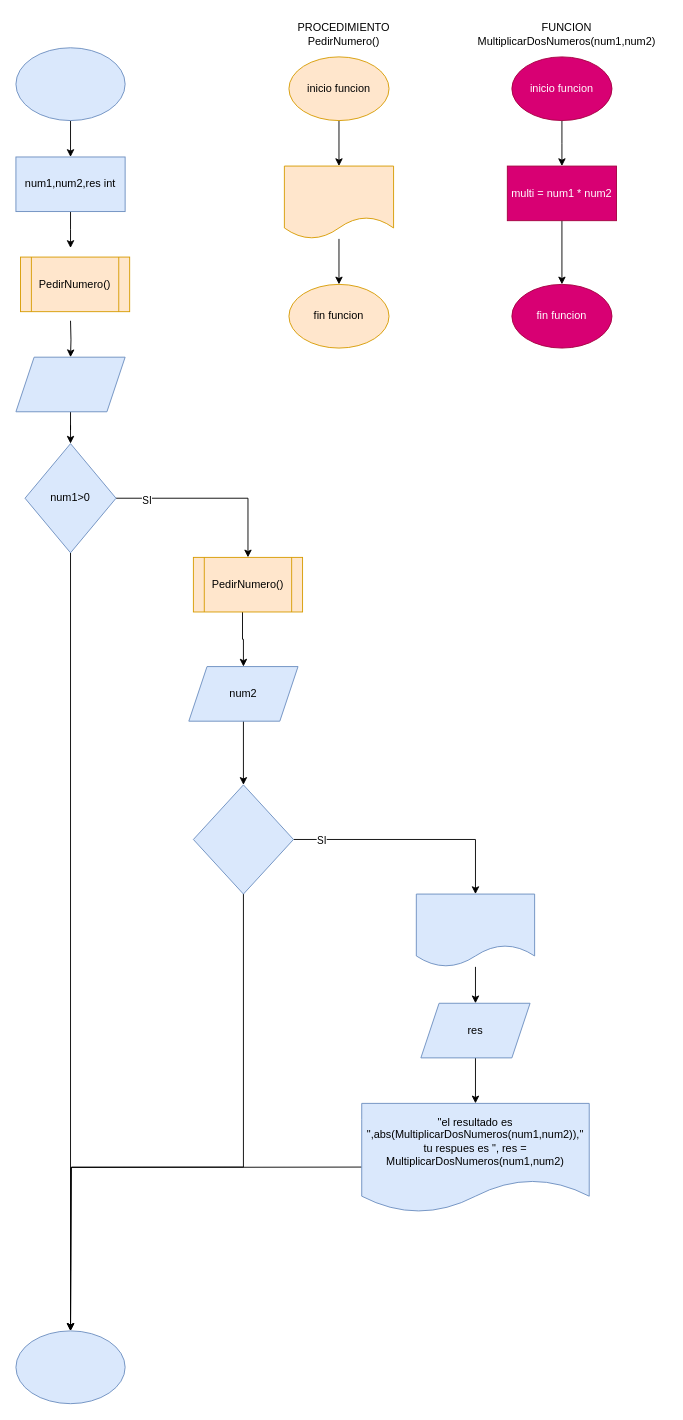
The diagram is 683 pixels wide and 1420 high, and some of its shapes have lost their labels. Each missing label, with the centre of its shape:
"Ingresa un número": point 338,202
"num1, " * ",num2," = ": point 475,930
fin: point 70,1367
inicio: point 70,84
num1: point 70,384
num2>0: point 242,839
